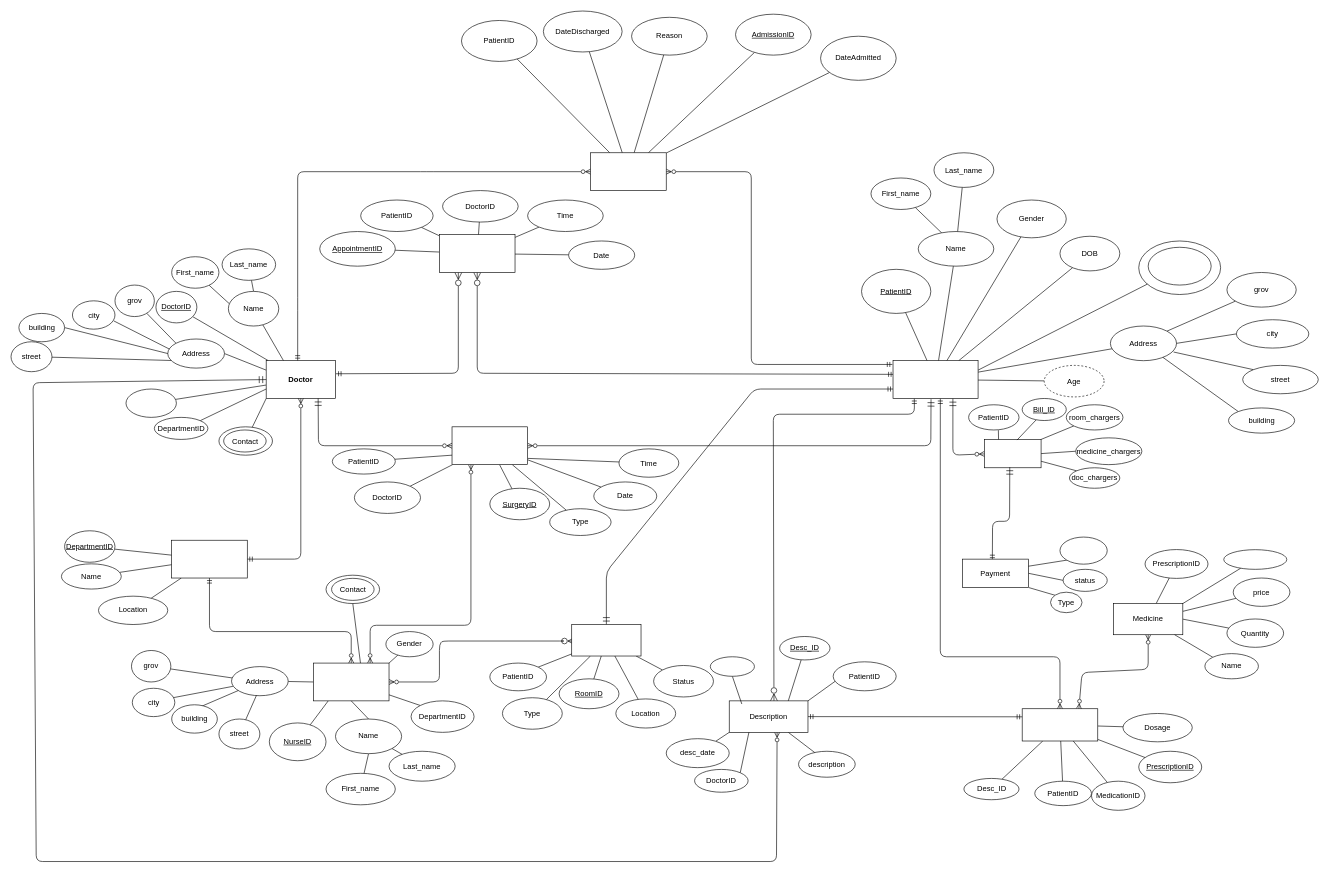
Image size: 1329x879. Some labels were removed from this diagram. Each missing label, with the box of its shape:
Admission: (590, 152, 666, 191)
Appointment: (439, 234, 515, 272)
Bill: (984, 439, 1041, 468)
Department: (171, 540, 247, 578)
Med_ID: (1223, 549, 1287, 569)
Nurse: (313, 662, 389, 701)
Patient: (892, 360, 978, 398)
payment_ID: (1059, 536, 1107, 564)
Phone: (1148, 247, 1211, 285)
Prescription: (1022, 708, 1098, 741)
Room: (571, 624, 641, 656)
Specialization: (125, 388, 176, 417)
surgeries: (710, 656, 754, 676)
Surgery: (451, 426, 528, 465)
